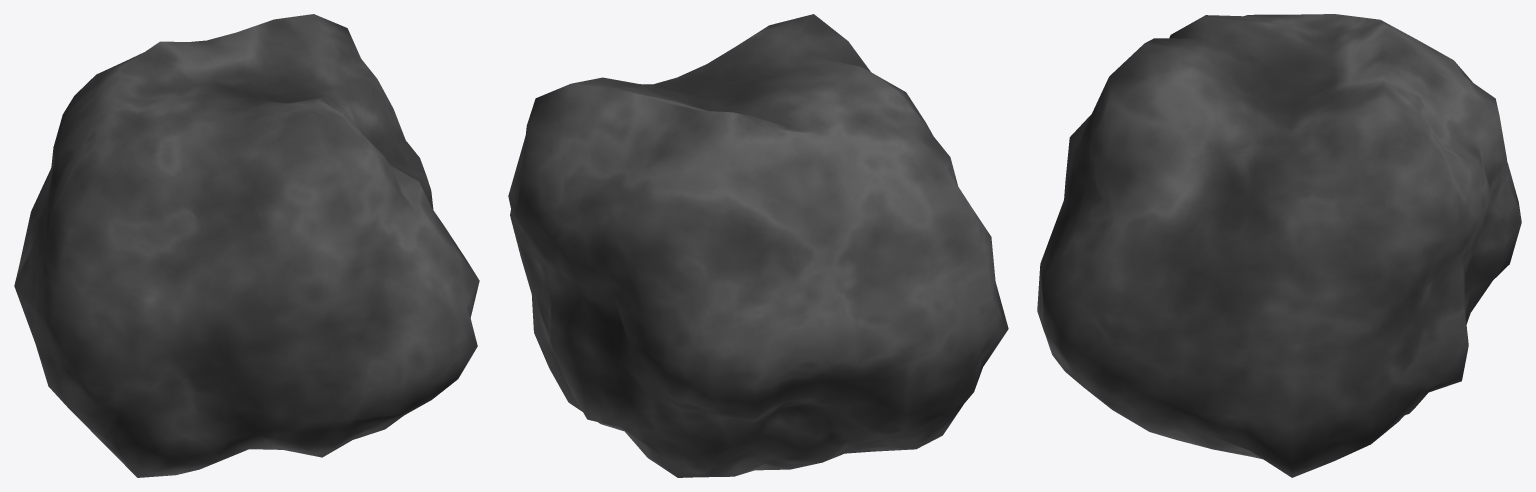
Rendered from A_BoulderPlainLarge_11.glb.
The picture shows the model from 3 angles, left to right: view 1: azimuth 30°, elevation 25°; view 2: azimuth 150°, elevation 25°; view 3: azimuth 270°, elevation 25°; orthographic projection. The views are drawn at different scales.
Visible parts, largest first — view 1: BoulderPlainLarge_11; view 2: BoulderPlainLarge_11; view 3: BoulderPlainLarge_11.
Part boxes in pixels (x1,y1,x2,y2): BoulderPlainLarge_11: (14, 14, 479, 477); BoulderPlainLarge_11: (508, 14, 1008, 477); BoulderPlainLarge_11: (1037, 14, 1521, 477).
Size of the model in its own units: 3.4 by 2.89 by 3.36.
1 material, 1 textured.
